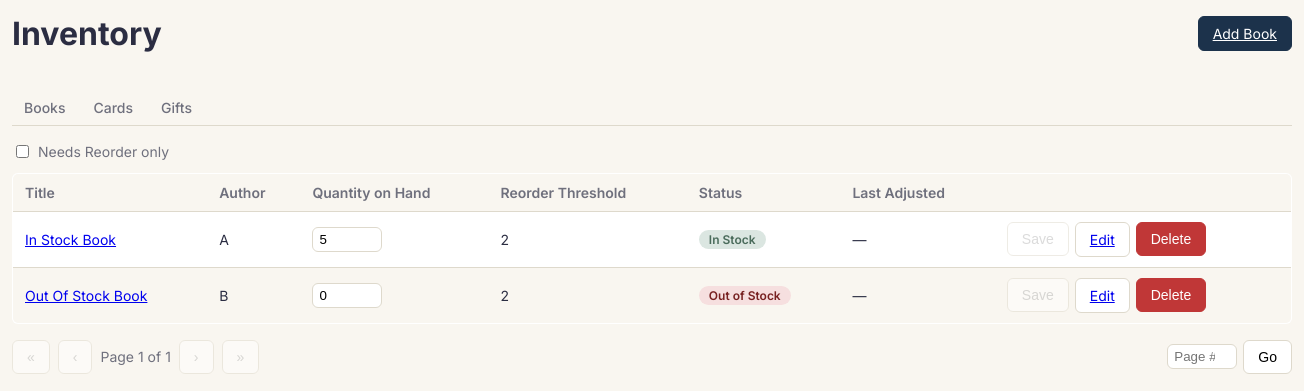
InventoryPage › deletes a book after confirming
This screenshot has width=1304, height=391.
Expected: the link "In Stock Book" is shown, [25,231,116,248]
Click the button "Delete" in the row of "In Stock Book": (1171, 239) [1136,222,1206,256]
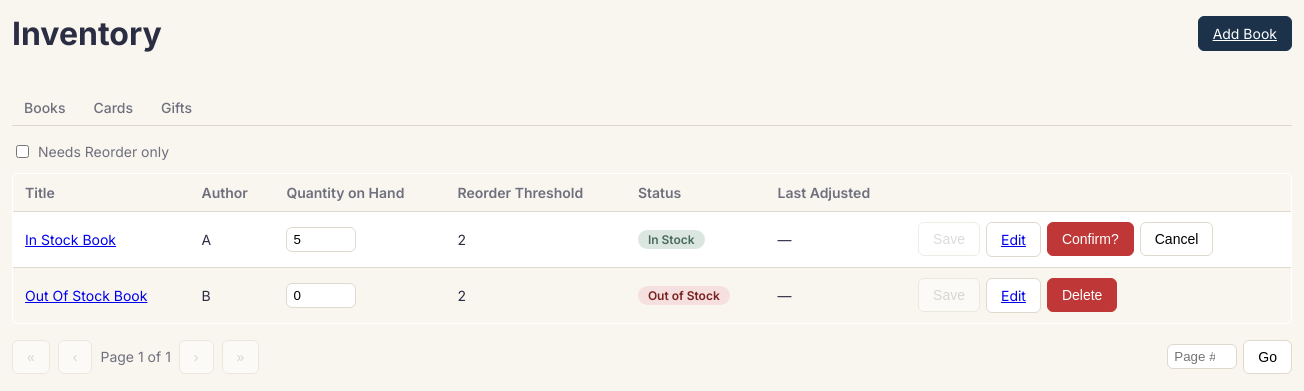
Click the button "Confirm?": (1090, 239) [1047,222,1134,256]
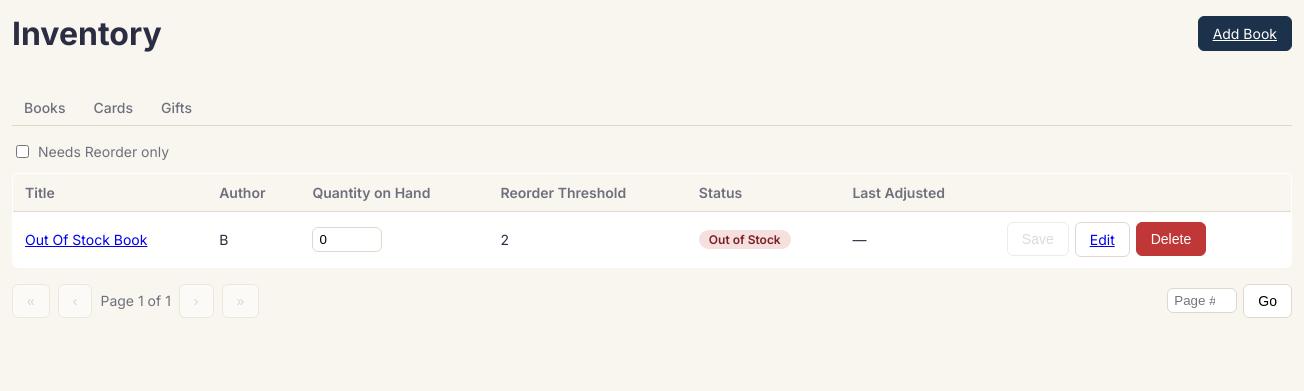
Expected: the link "Out Of Stock Book" is shown, [25,231,147,248]
Now the link "In Stock Book" is gone
